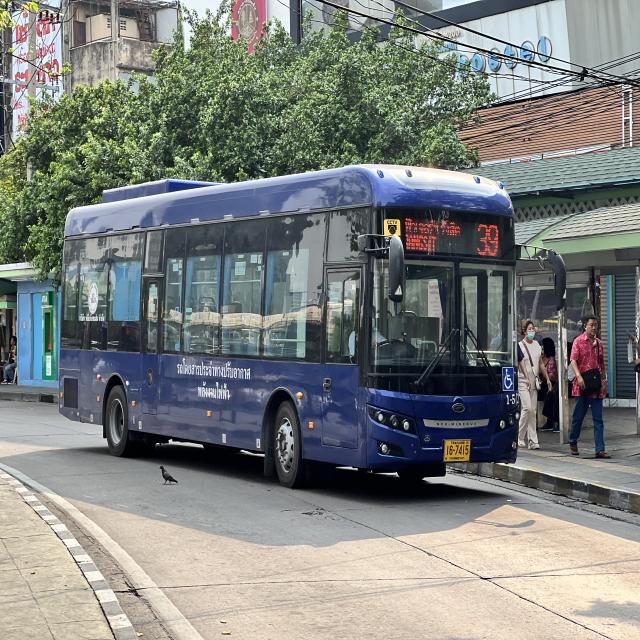Bus-Line-Number: (472, 220, 503, 260)
Destination-Sign-Normal: (401, 213, 463, 260)
TSB-Bus: (53, 159, 521, 486)
